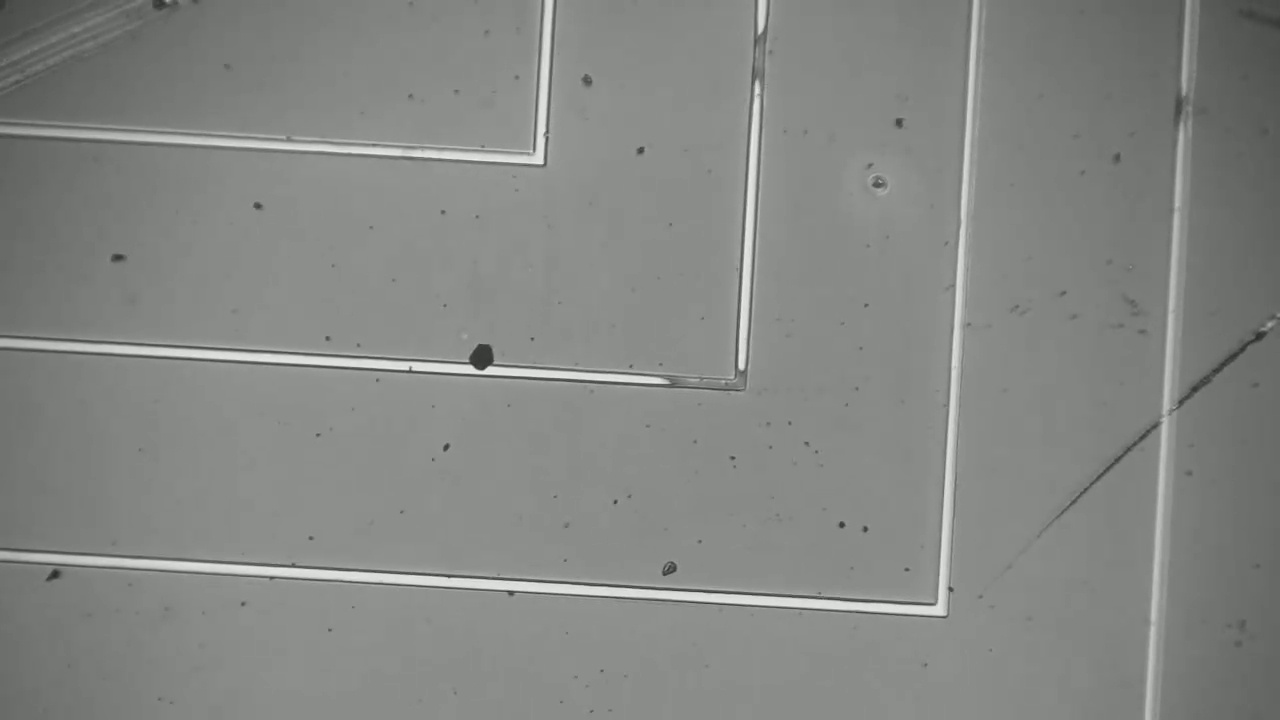edge_bite: (527, 126, 554, 143)
gray_line: (651, 369, 765, 396), (745, 17, 777, 95), (1166, 81, 1200, 148), (727, 354, 754, 402)
scratch: (968, 241, 1279, 606), (0, 6, 177, 101)
stains_enbedded: (459, 335, 503, 387)
